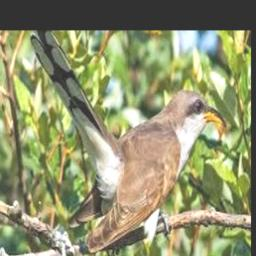Cuckoo: (31, 30, 227, 252)
